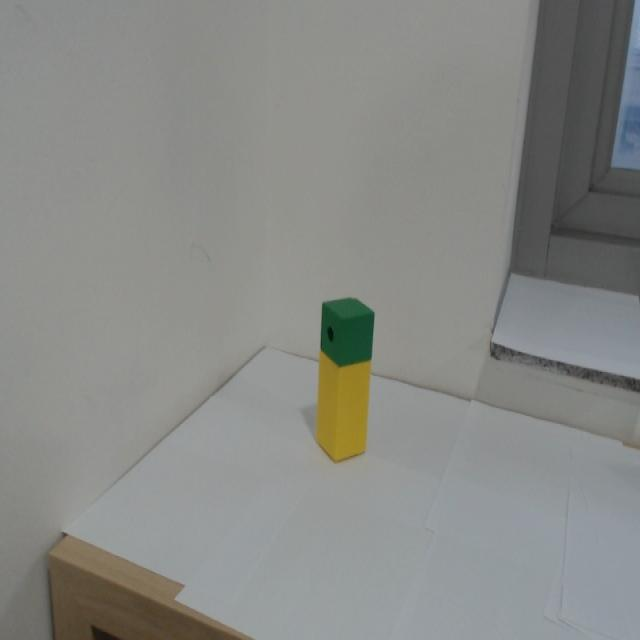cube: (320, 294, 379, 375)
